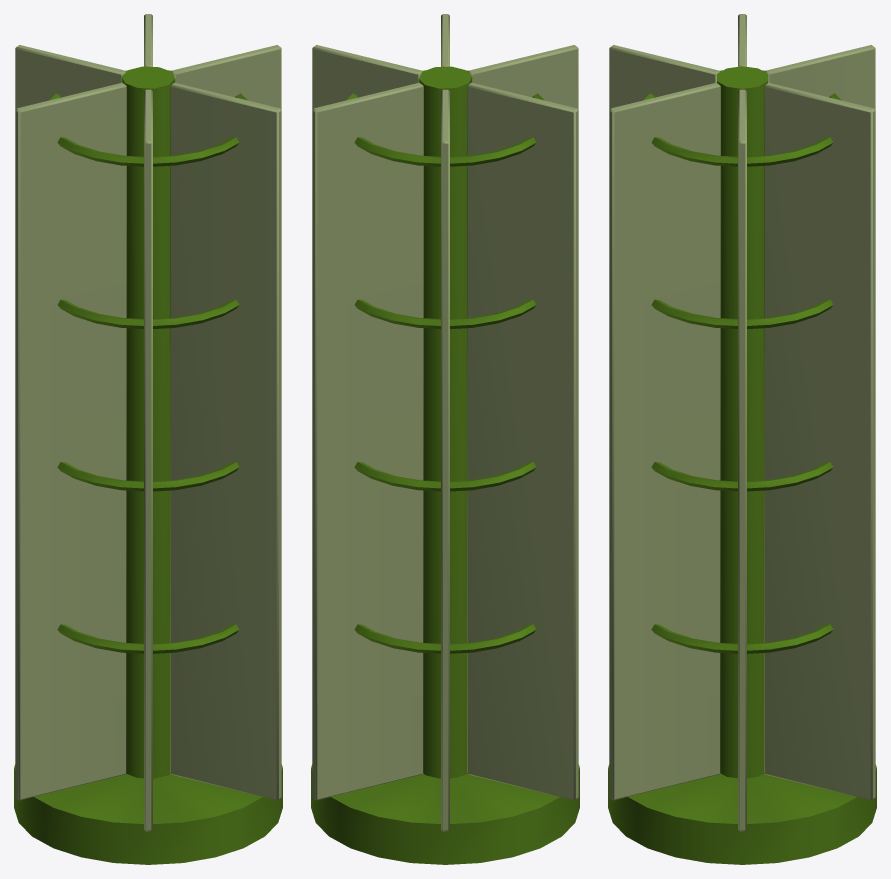
The model's file is mall-eyewear-tower.glb.
3 views of the same model, side by side, from view 1: azimuth 30°, elevation 25°; view 2: azimuth 150°, elevation 25°; view 3: azimuth 270°, elevation 25° (orthographic).
Parts seen in each view (by area): view 1: rotor__lacquer, base__lacquer; view 2: rotor__lacquer, base__lacquer; view 3: rotor__lacquer, base__lacquer.
Part boxes in pixels (left/top/right/bottom): rotor__lacquer: left=15, top=14, right=281, bottom=831; base__lacquer: left=14, top=764, right=282, bottom=864; rotor__lacquer: left=312, top=14, right=578, bottom=831; base__lacquer: left=311, top=764, right=579, bottom=864; rotor__lacquer: left=609, top=14, right=875, bottom=831; base__lacquer: left=608, top=764, right=876, bottom=864.
Size of the model in its own units: 0.68 by 1.8 by 0.6.
